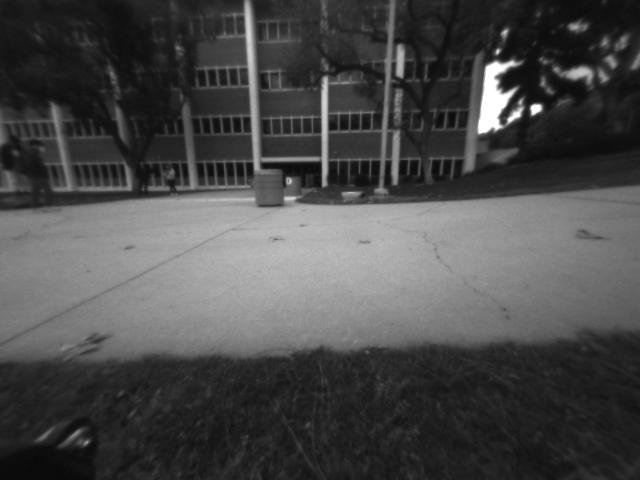trashcan: (255, 168, 289, 207)
